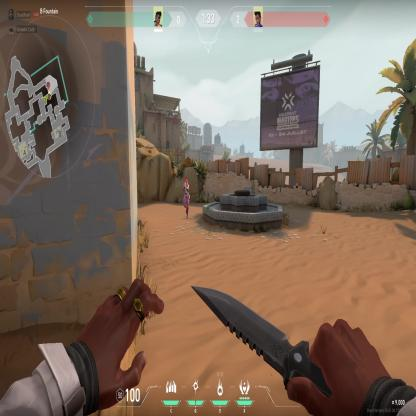enemy: (182, 174, 191, 220)
